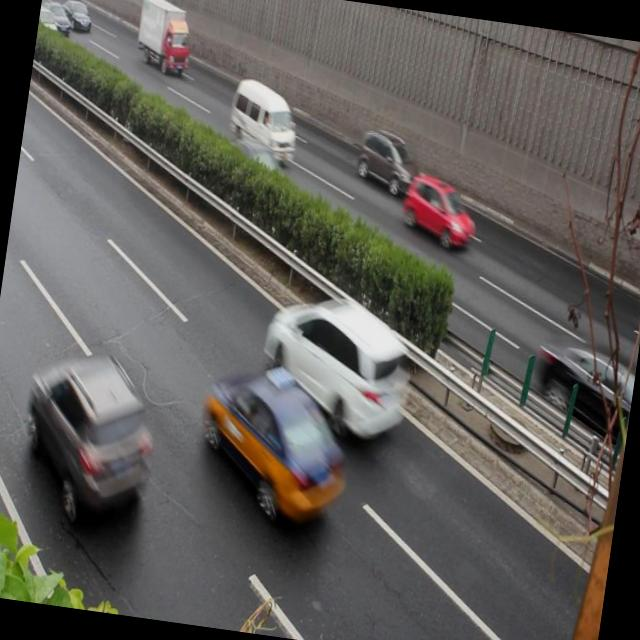car: (198, 362, 362, 526), (21, 342, 169, 521), (260, 287, 423, 442), (532, 336, 639, 441), (220, 136, 302, 216), (400, 171, 484, 247), (354, 128, 427, 196)
